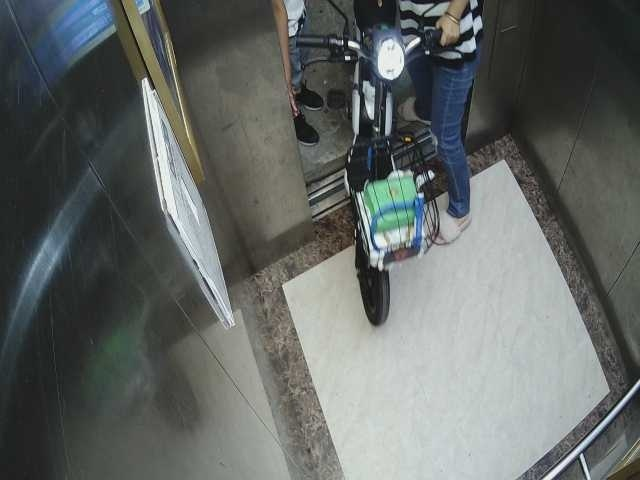emotor: (292, 5, 445, 320)
